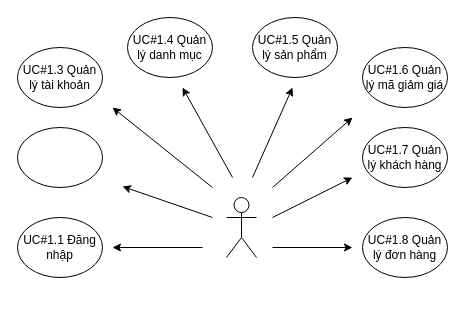
Some shapes in this 465 by 311 pixel diagram are drawn without their labels. Here are the shapes that lost their labels. From the top down, the box of each, then its label:
(16, 126, 102, 188): UC#1.2 Đăng xuất
(226, 196, 256, 258): Admin
